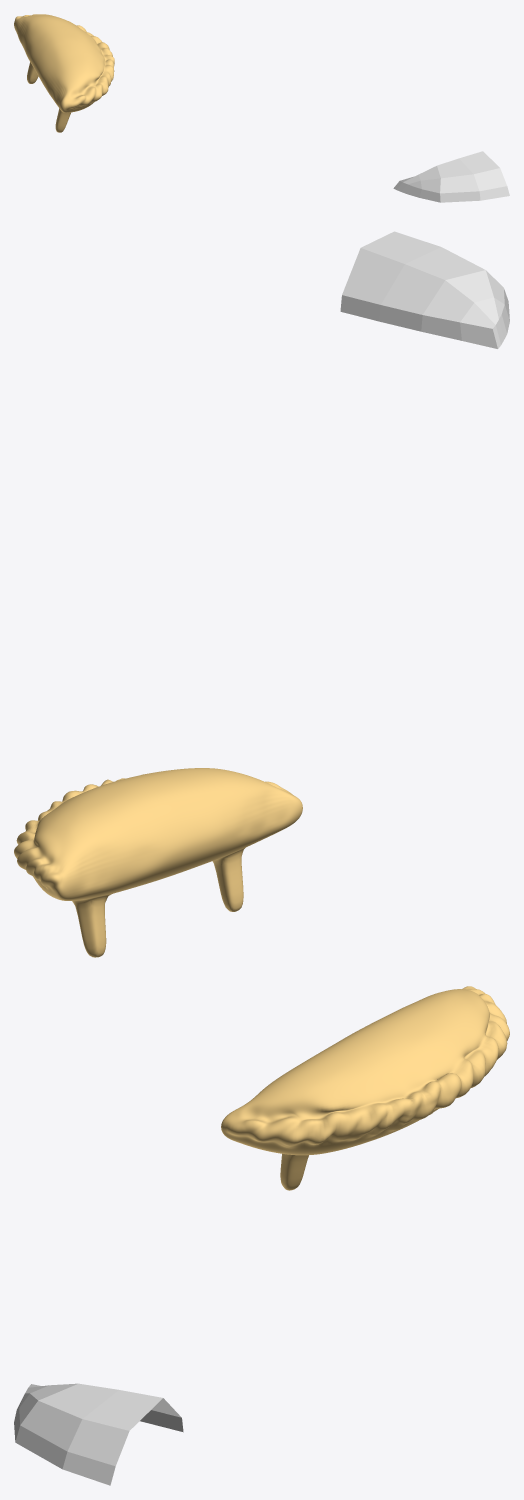
File: empanada_01.fbx
3 views of the same model, one above another, from view 1: azimuth 30°, elevation 25°; view 2: azimuth 150°, elevation 25°; view 3: azimuth 330°, elevation 25° (orthographic). The views are drawn at different scales.
Visible parts, largest first — view 1: Mesh.008, Mesh.004; view 2: Mesh.008, Mesh.004; view 3: Mesh.008, Mesh.004.
Boxes of the visible parts, box(x1,y1,x2,y2) form: Mesh.008: box(14, 14, 114, 132); Mesh.004: box(393, 151, 509, 202); Mesh.008: box(14, 768, 302, 957); Mesh.004: box(340, 231, 509, 348); Mesh.008: box(221, 986, 509, 1190); Mesh.004: box(14, 1383, 183, 1485).
Size of the model in its own units: 495 by 280 by 1483.
